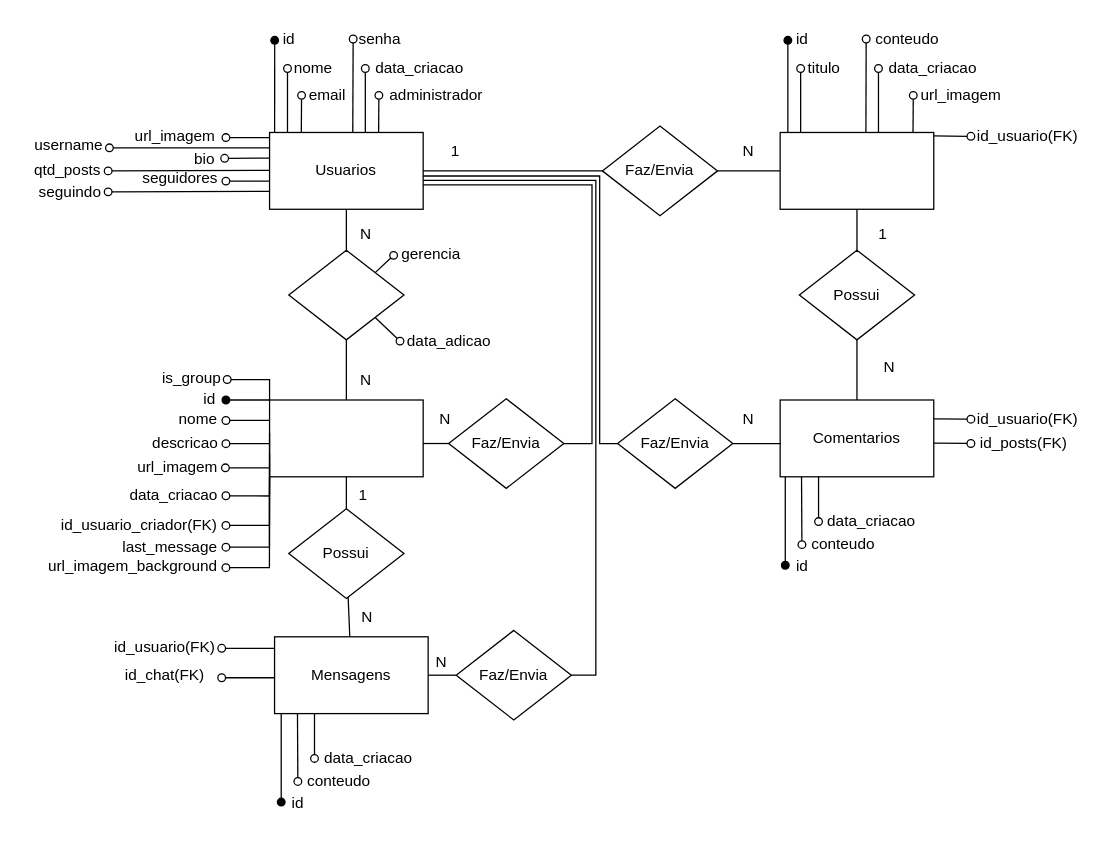
Image size: 1110x841. Some labels were removed from this diagram. The shapes that lost their labels are listed below. From the top down, each one's centre as x and y in pixels, then its label:
At point (856, 170): "Posts".
At point (345, 294): "Participa".
At point (345, 438): "Chats".
